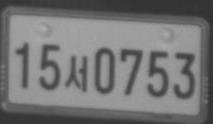0: (93, 45, 115, 94)
1: (13, 42, 33, 89)
3: (172, 51, 196, 100)
5: (38, 43, 61, 91), (146, 49, 169, 97)
7: (120, 47, 144, 96)
서: (64, 54, 88, 93)
